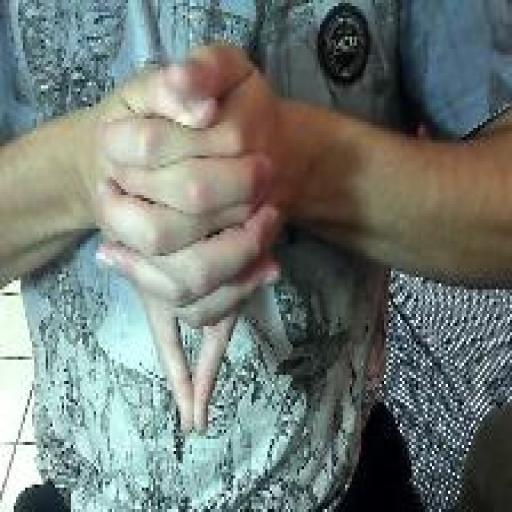Tatsu -dragon-: (92, 37, 287, 445)
